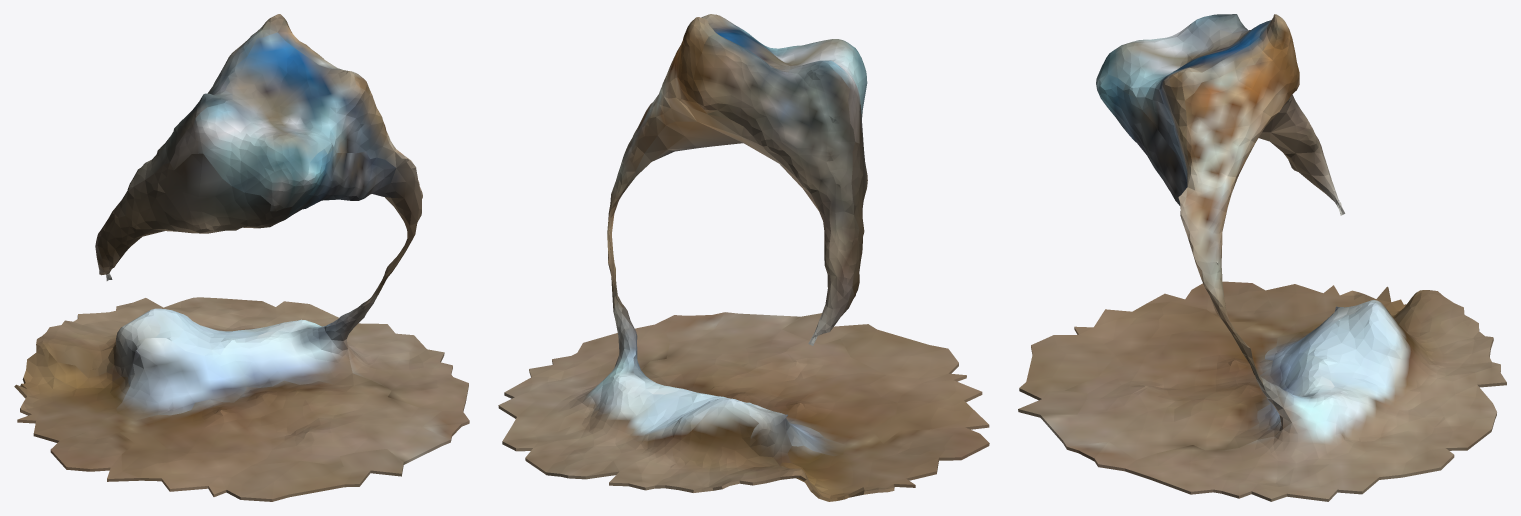
File: MegGrammaRing.glb
3 views of the same model, side by side, from view 1: azimuth 30°, elevation 25°; view 2: azimuth 150°, elevation 25°; view 3: azimuth 270°, elevation 25° (orthographic). The views are drawn at different scales.
Visible parts, largest first — view 1: mesh.007; view 2: mesh.007; view 3: mesh.007.
Part boxes in pixels (left/top/right/bottom): mesh.007: left=14, top=14, right=469, bottom=501; mesh.007: left=498, top=14, right=989, bottom=501; mesh.007: left=1018, top=14, right=1506, bottom=501.
Bounding box in the file's own units: 0.0331 × 0.0295 × 0.0324.
1 material, 1 textured.
